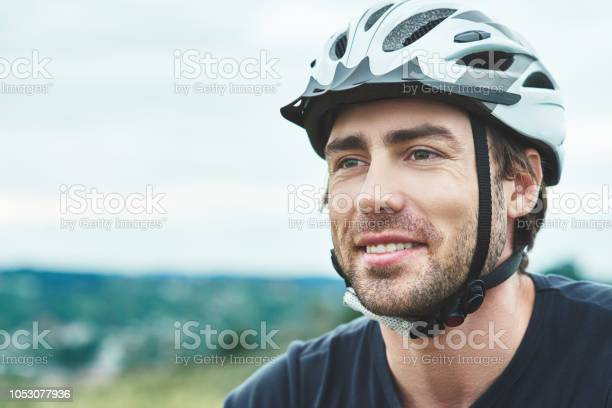helmet: (279, 1, 567, 338)
